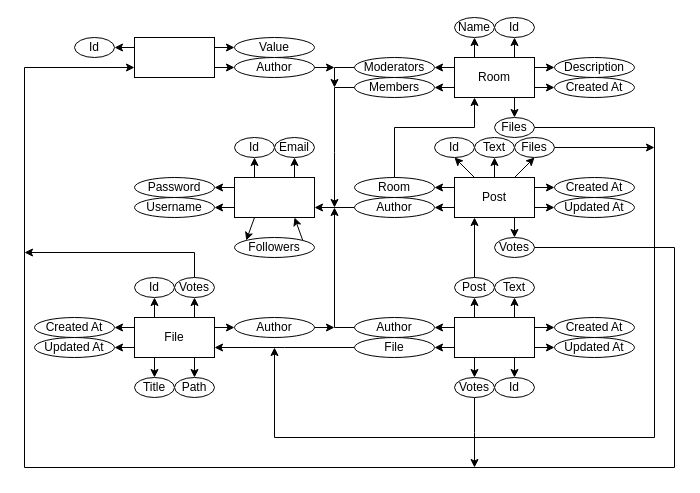
This 700x493 diagram has some shape labels left out. The centre of each missing label's shape, as x and y in pixels:
Comment: pixel 494 337
User: pixel 274 197
Vote: pixel 174 57
